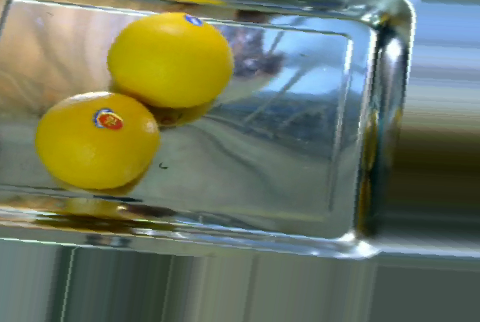Orange: (34, 90, 158, 190), (106, 12, 233, 106)
